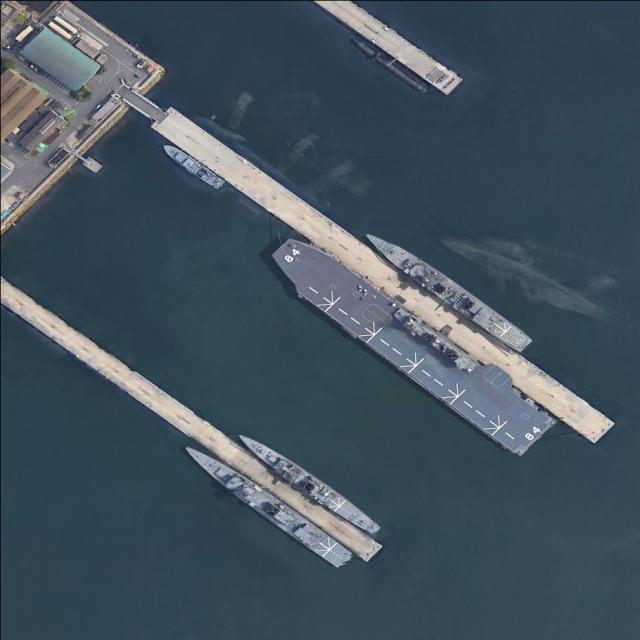Destroyer: (263, 224, 552, 462), (178, 439, 355, 571), (361, 224, 533, 356), (233, 426, 383, 539)
Dock: (129, 87, 615, 445)
Other Warship: (160, 140, 226, 193)
Submarine: (350, 35, 427, 94)
